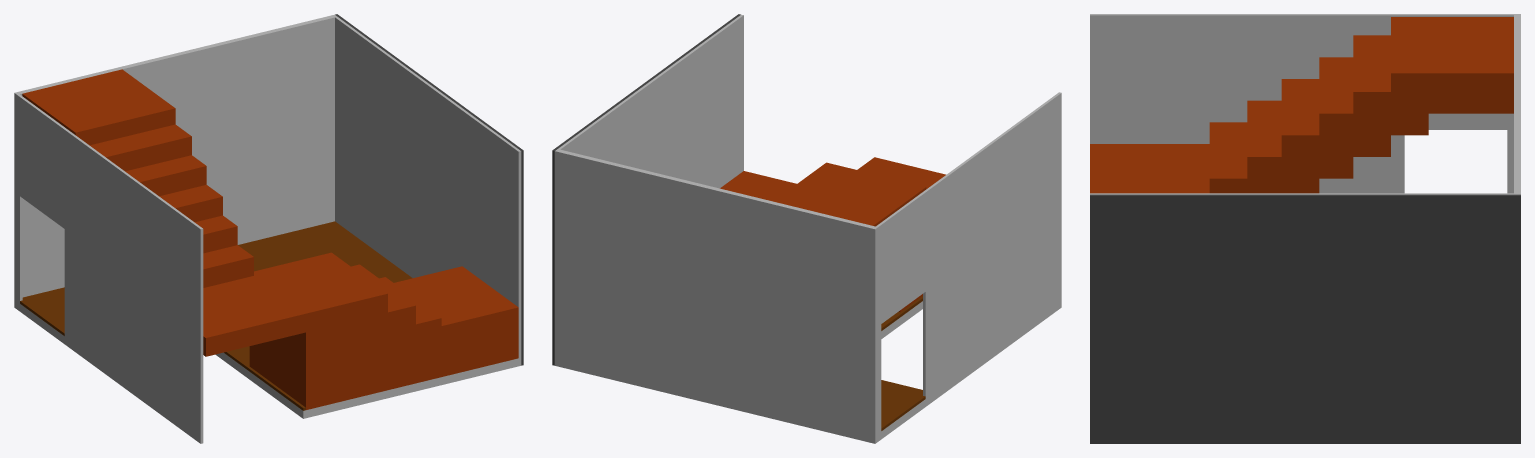
Rendered from 4x2 second (1)-2.obj.
The picture shows the model from 3 angles, left to right: view 1: azimuth 30°, elevation 25°; view 2: azimuth 150°, elevation 25°; view 3: azimuth 270°, elevation 25°; orthographic projection. The views are drawn at different scales.
Visible parts, largest first — view 1: 4x2 second (1)-2; view 2: 4x2 second (1)-2; view 3: 4x2 second (1)-2.
Boxes of the visible parts, x1=… form: 4x2 second (1)-2: x1=14, y1=14, x2=523, y2=443; 4x2 second (1)-2: x1=552, y1=14, x2=1061, y2=443; 4x2 second (1)-2: x1=1090, y1=14, x2=1520, y2=443.
Bounding box in the file's own units: 126 × 80 × 126.
Materials: 1 (1 with a texture image).
